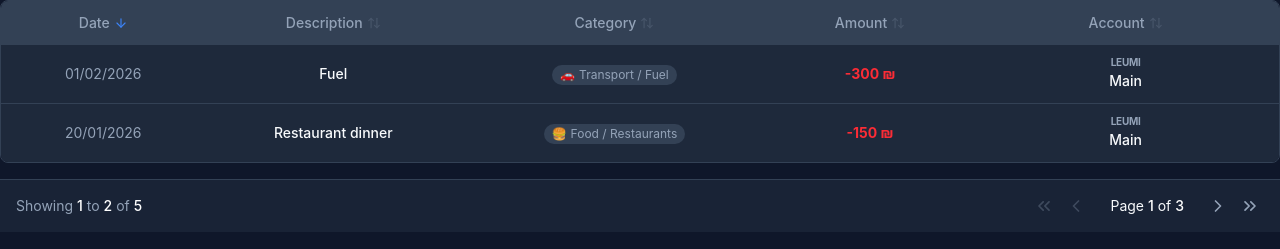
Test: TransactionsTable › pagination › navigates to next page
Expected: the text "Fuel" is shown, [319, 65, 347, 82]
Expected: the text "Restaurant dinner" is shown, [274, 124, 393, 141]
Step 1. Click the 3rd button → {"x": 1218, "y": 206}, box [1204, 192, 1232, 220]
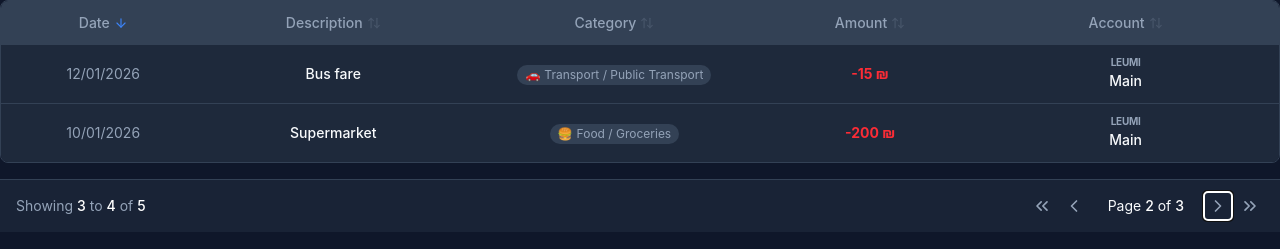
Now the text "Fuel" is gone
